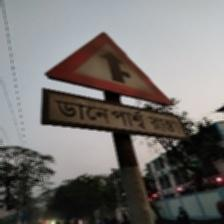Side-road-right: (41, 30, 183, 142)
